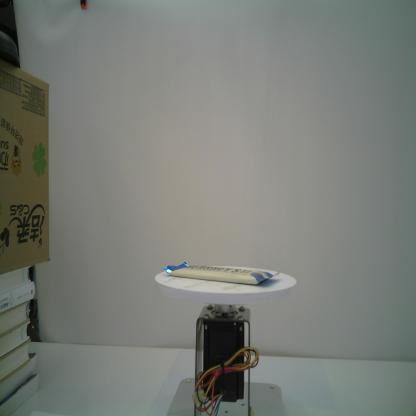Chocolate: (162, 260, 282, 287)
